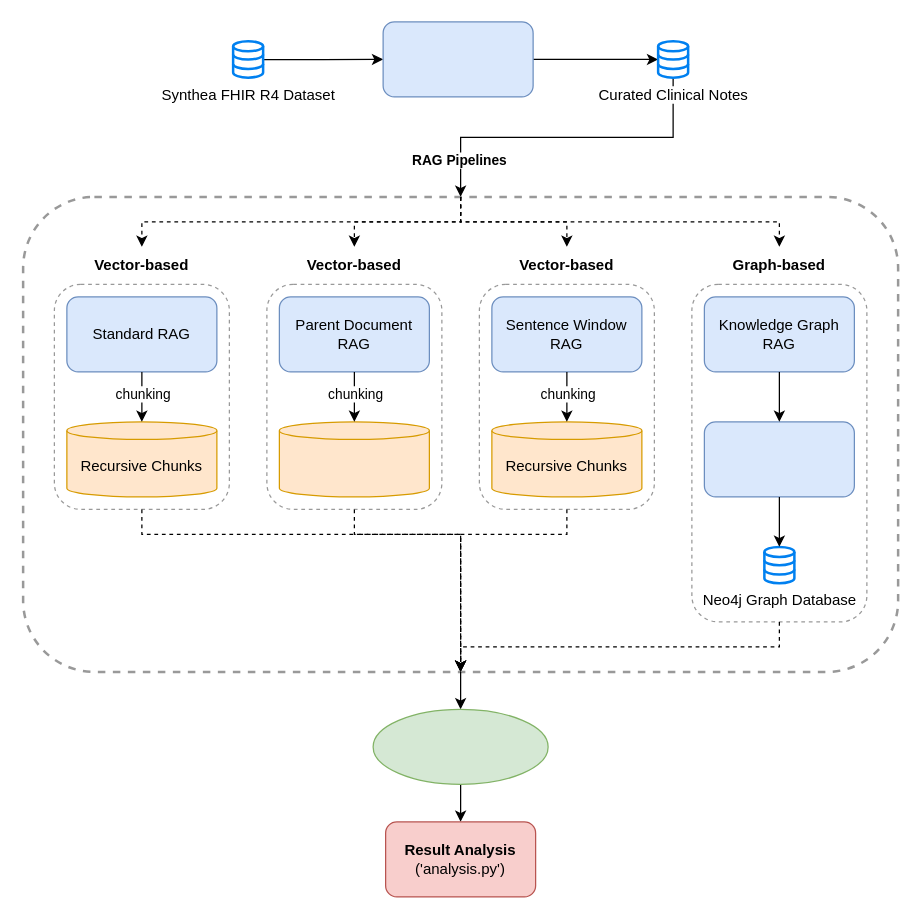
Some shapes in this 920 by 919 pixel diagram are drawn without their labels. The box of each missing label's shape, as (x1, y1, x2, y2) in pixels:
Child Chunks + Parent Docs: (278, 421, 429, 497)
Data Curation ('data_loader.py'): (382, 21, 533, 97)
LLM-based Entity & Relationship Extraction: (703, 421, 854, 497)
Test Questions: (372, 708, 548, 784)
